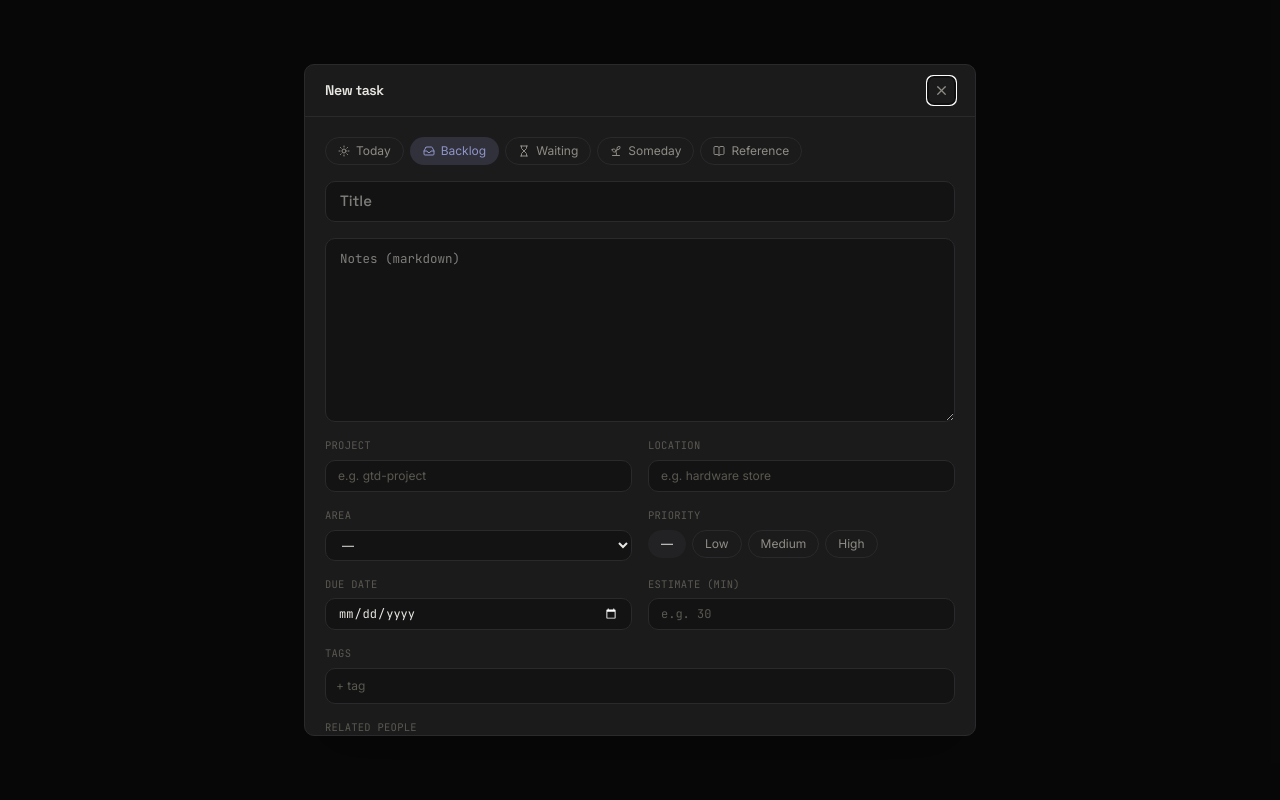
it: creating a new task (file=null) › surfaces an error and stays open if the server rejects the create
This screenshot has width=1280, height=800.
Type "do it now" into the field with placeholder "Title" at (640, 201), box [325,181,955,222]
(page scrolled)
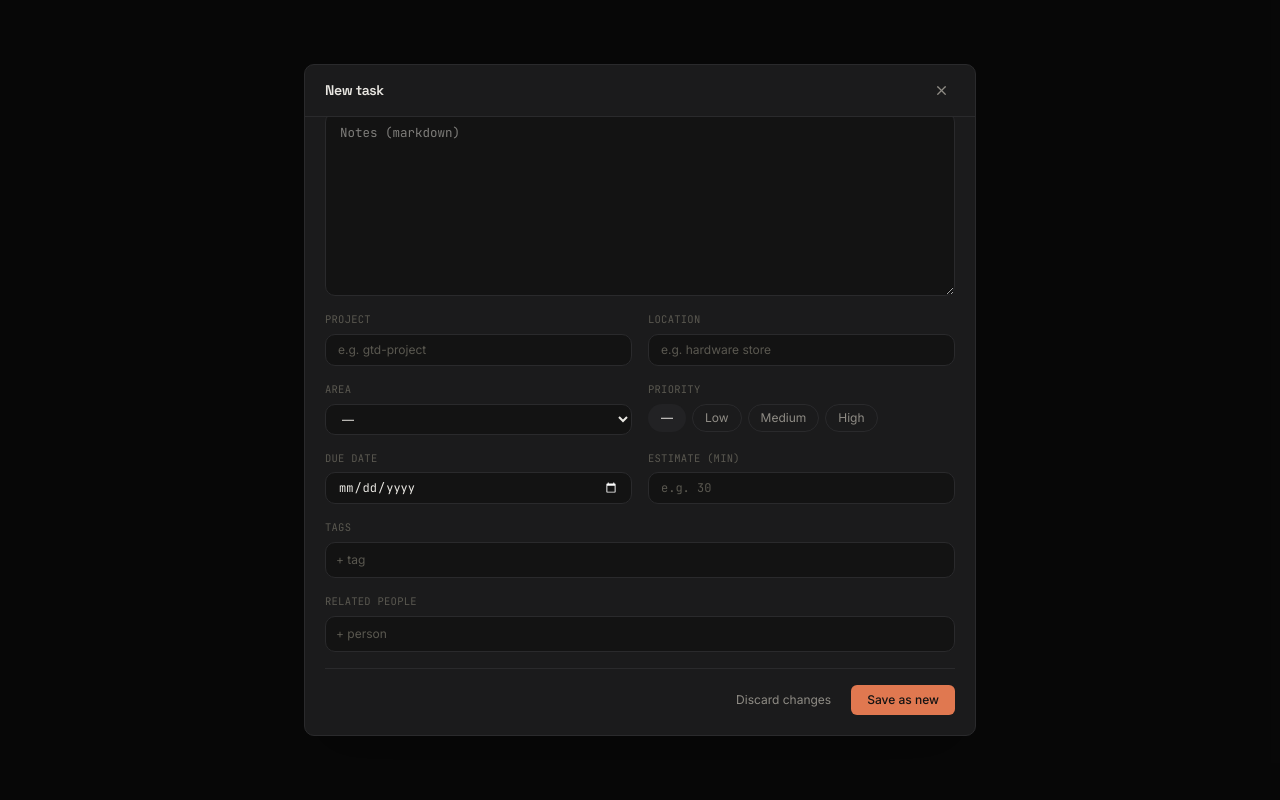
Click the button "Save as new" at (903, 700), box [851,685,955,715]
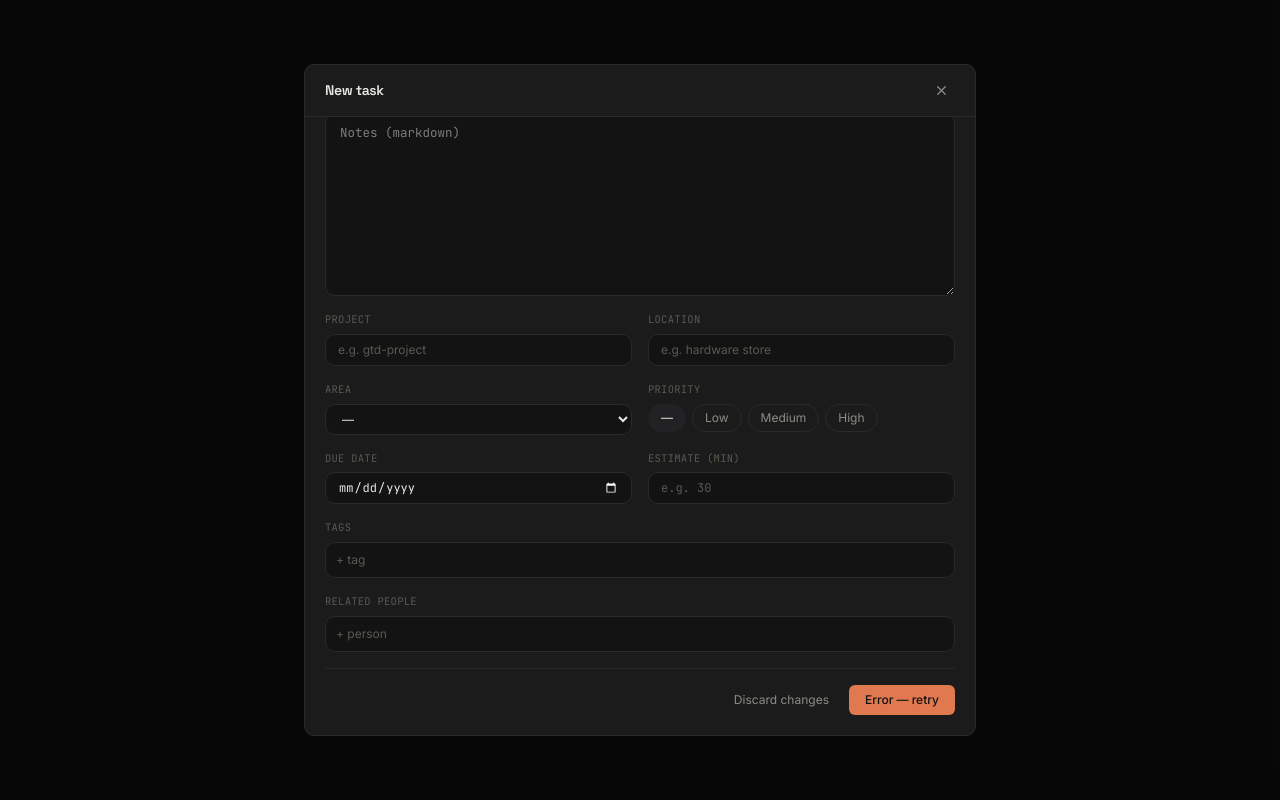
Now the button "Error — retry" is shown, box [849,685,955,715]
